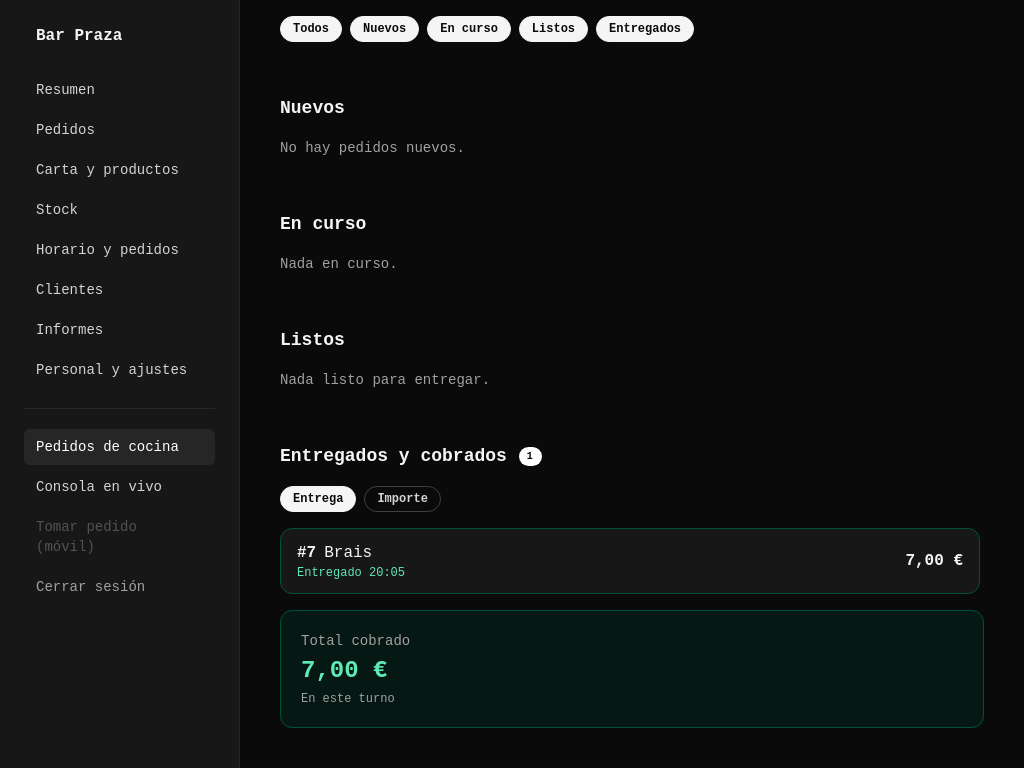
delivered order details › shows the kitchen note, the payment note and the detail of each line
(page scrolled)
Click the button "#7 Brais Entregado 20:05 7,00 €".
click(348, 553)  # box [280,528,980,594]
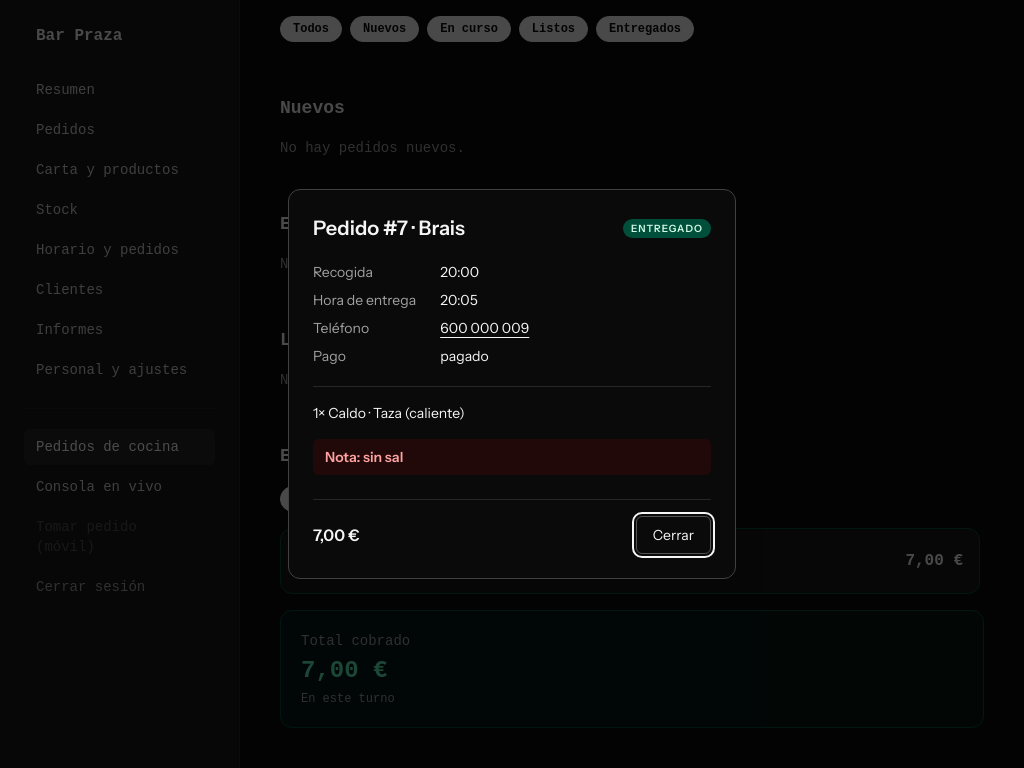
Result: the text "Nota: sin sal" is shown at [313,439,711,475]
Result: the text "pagado" is shown at [440,347,489,365]
Result: the list item "1× Caldo · Taza (caliente)" is shown at [313,404,465,422]
